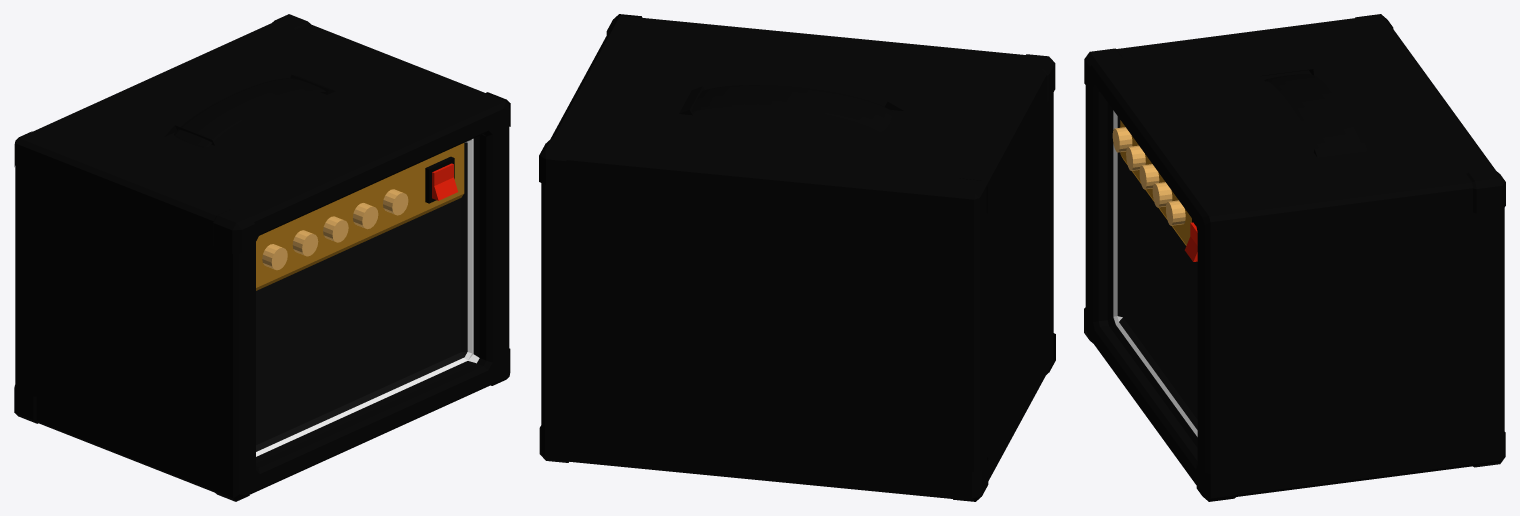
The model's file is Ampli.fbx.
The picture shows the model from 3 angles, left to right: view 1: azimuth 30°, elevation 25°; view 2: azimuth 150°, elevation 25°; view 3: azimuth 270°, elevation 25°; orthographic projection. The views are drawn at different scales.
Parts seen in each view (by area): view 1: Ampli; view 2: Ampli; view 3: Ampli.
Part boxes in pixels (x1,y1,x2,y2): Ampli: [14, 14, 510, 501]; Ampli: [539, 14, 1055, 501]; Ampli: [1084, 14, 1505, 501].
Size of the model in its own units: 100 by 67.51 by 86.12.
